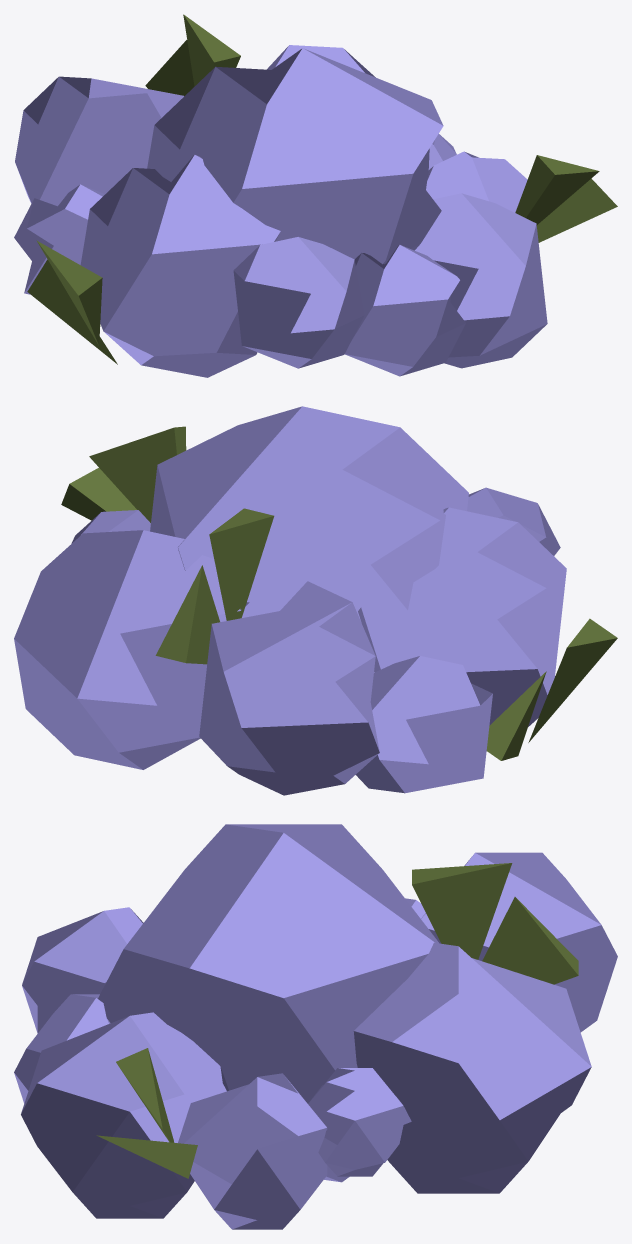
File: Flower_v1.glb
3 renders of one model, top to bottom at view 1: azimuth 30°, elevation 25°; view 2: azimuth 150°, elevation 25°; view 3: azimuth 270°, elevation 25°, orthographic. The views are drawn at different scales.
Parts seen in each view (by area): view 1: Flower_v1; view 2: Flower_v1; view 3: Flower_v1.
Part boxes in pixels (x1,y1,x2,y2): Flower_v1: (14, 14, 617, 377); Flower_v1: (14, 406, 617, 795); Flower_v1: (14, 824, 617, 1229).
Bounding box in the file's own units: 0.4041 × 0.229 × 0.3673.
